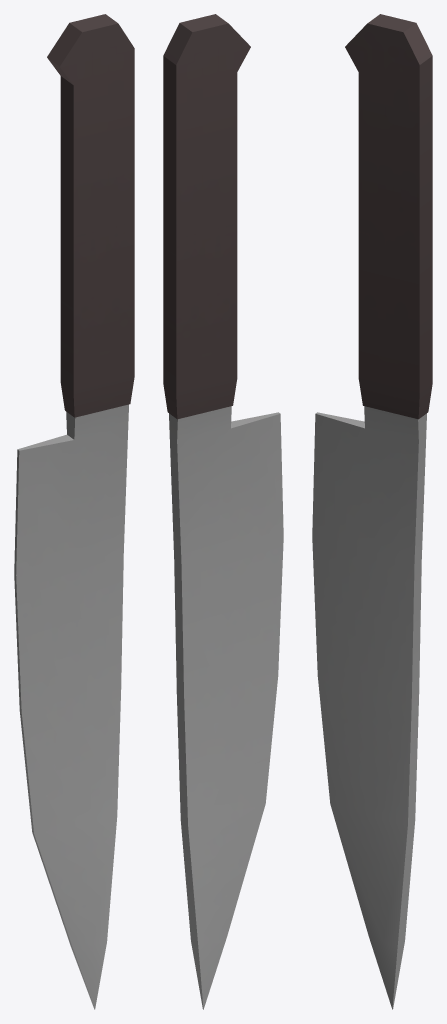
The model's file is Knife_A.fbx.
3 views of the same model, side by side, from view 1: azimuth 30°, elevation 25°; view 2: azimuth 210°, elevation 25°; view 3: azimuth 330°, elevation 25° (orthographic).
Parts seen in each view (by area): view 1: Kit_1_Knife_A; view 2: Kit_1_Knife_A; view 3: Kit_1_Knife_A.
Part boxes in pixels (x1,y1,x2,y2): Kit_1_Knife_A: (14,14,134,1009); Kit_1_Knife_A: (163,14,283,1009); Kit_1_Knife_A: (312,14,432,1009).
Bounding box in the file's own units: 2.49 × 20.74 × 0.4937.
